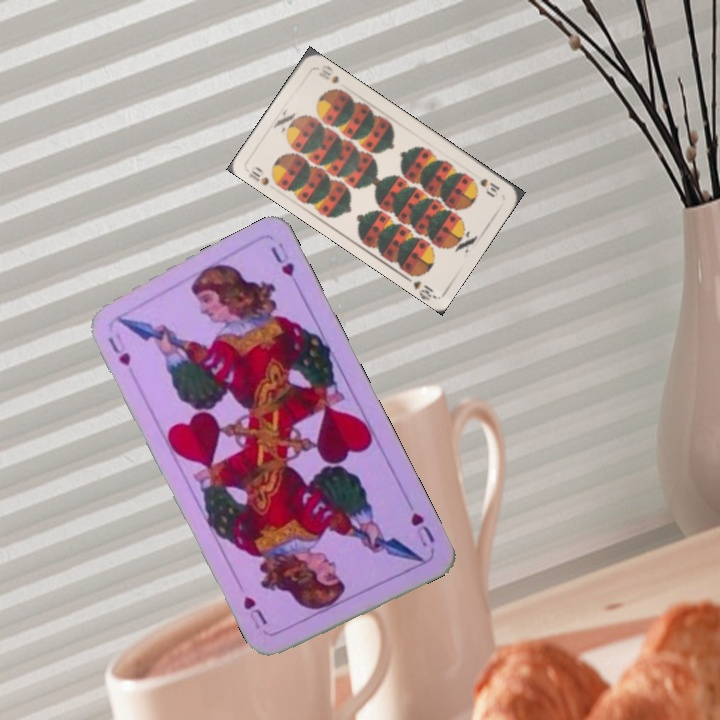HU: (406, 508, 438, 550), (104, 328, 134, 368)
S10: (245, 163, 282, 189), (476, 174, 503, 198)
